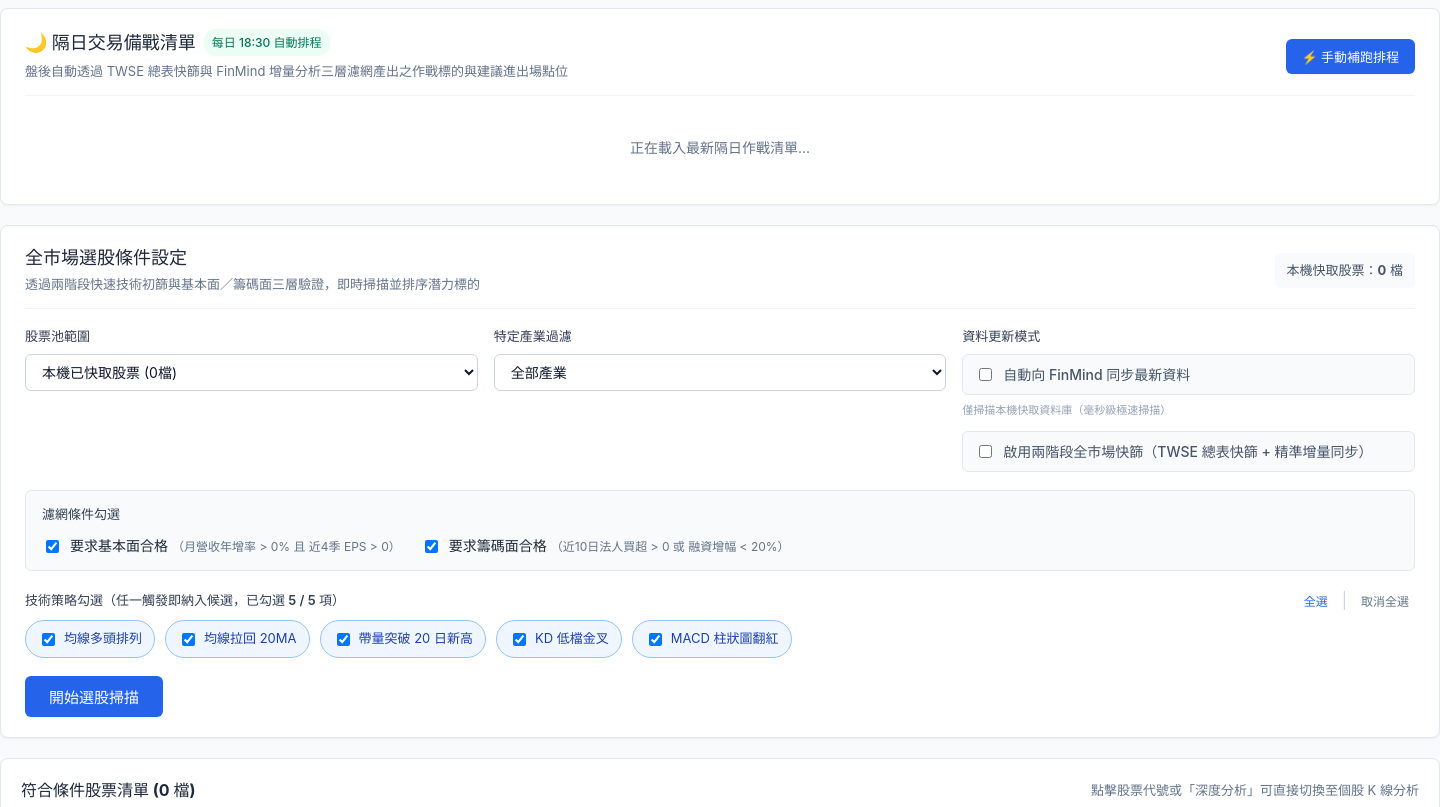
Test: MarketScanner Component › allows changing filters and strategy selection
The width and height of the screenshot is (1440, 807).
Check: the checkbox with test id "strategy-checkbox-均線多頭排列" is shown, box [42, 632, 55, 646]
// Change pool
Step 1. Select "熱門權值／台灣 50 代表股" in the dropdown with test id "pool-select" → [251, 373], box [25, 354, 478, 391]
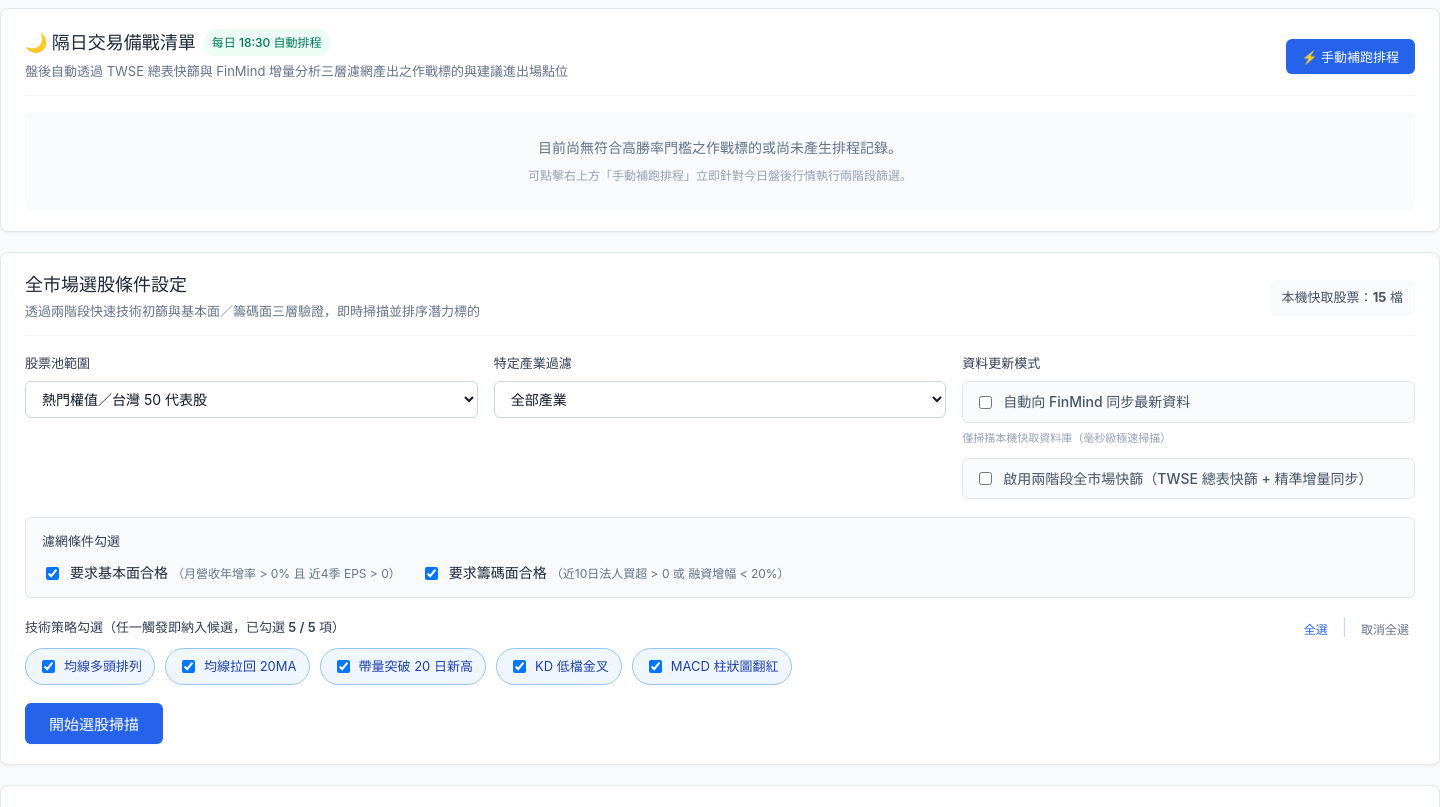
// Change industry
Step 2. Select "科技股（電子八大類）" in the dropdown with test id "industry-select" → [720, 400], box [494, 381, 946, 418]
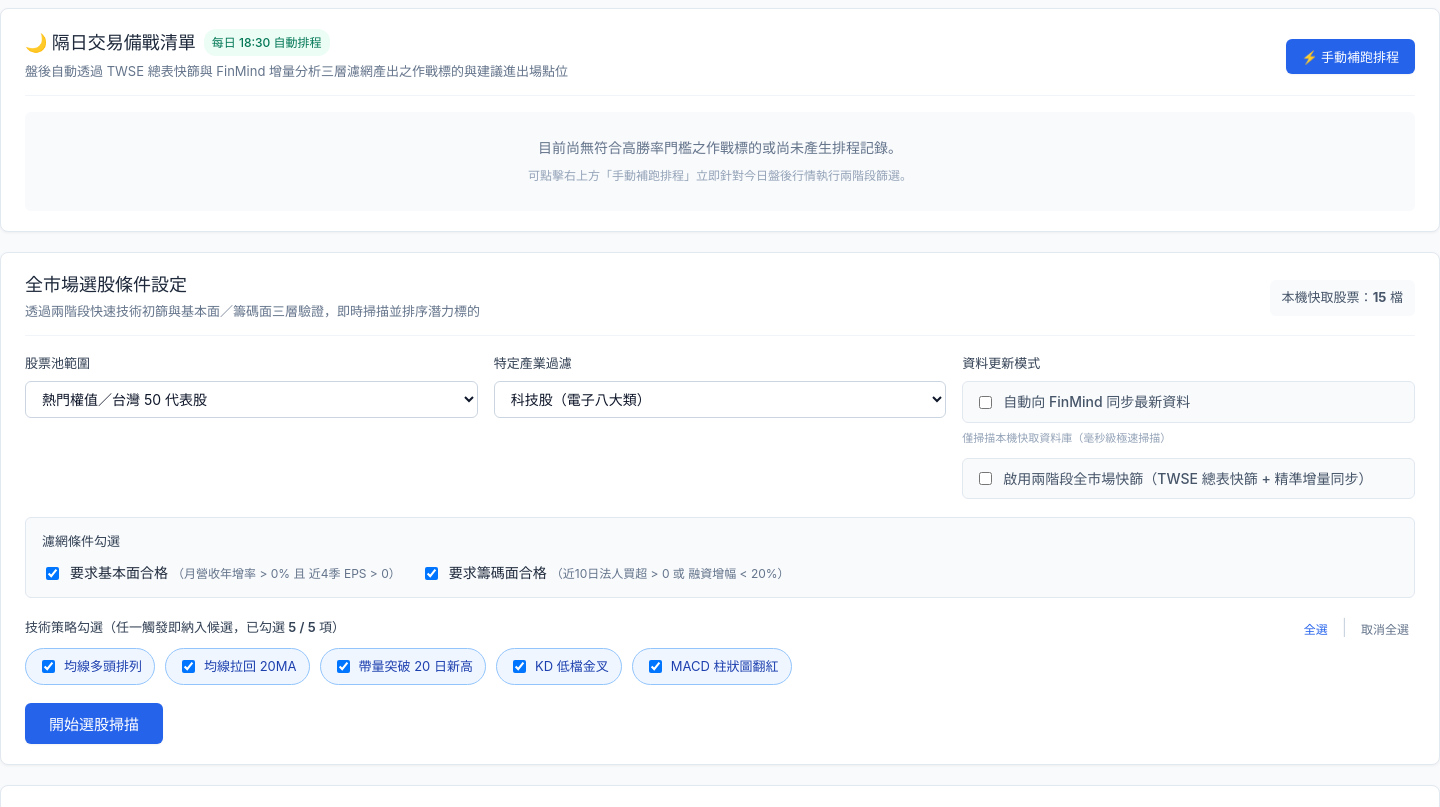
// Toggle sync checkbox
Step 3. Click the checkbox with test id "sync-latest-checkbox" → [986, 402], box [979, 396, 992, 408]
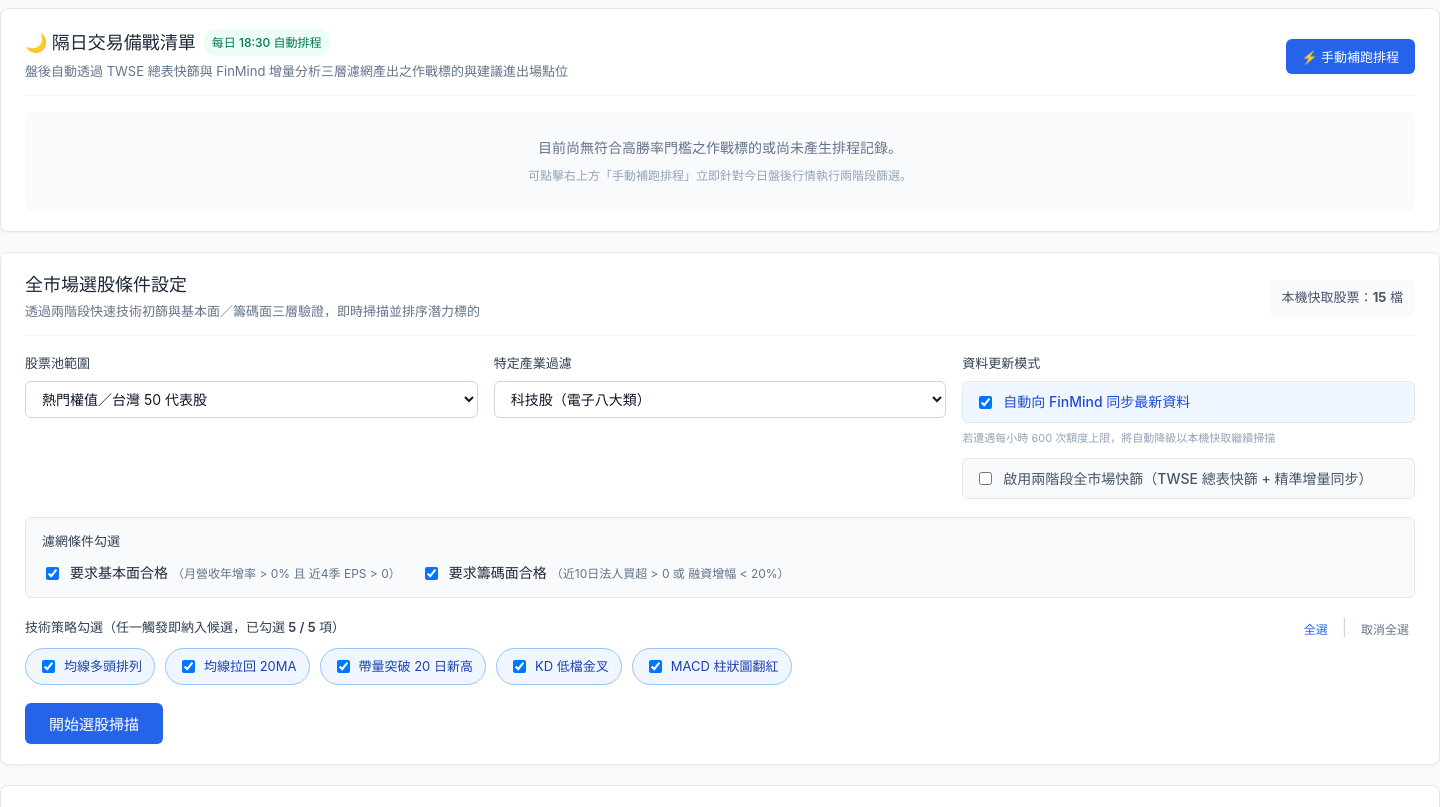
Check: the checkbox with test id "sync-latest-checkbox" is checked, box [979, 396, 992, 408]
// Uncheck and check strategies
Step 4. Click the checkbox with test id "strategy-checkbox-均線多頭排列" → [48, 666], box [42, 660, 55, 673]
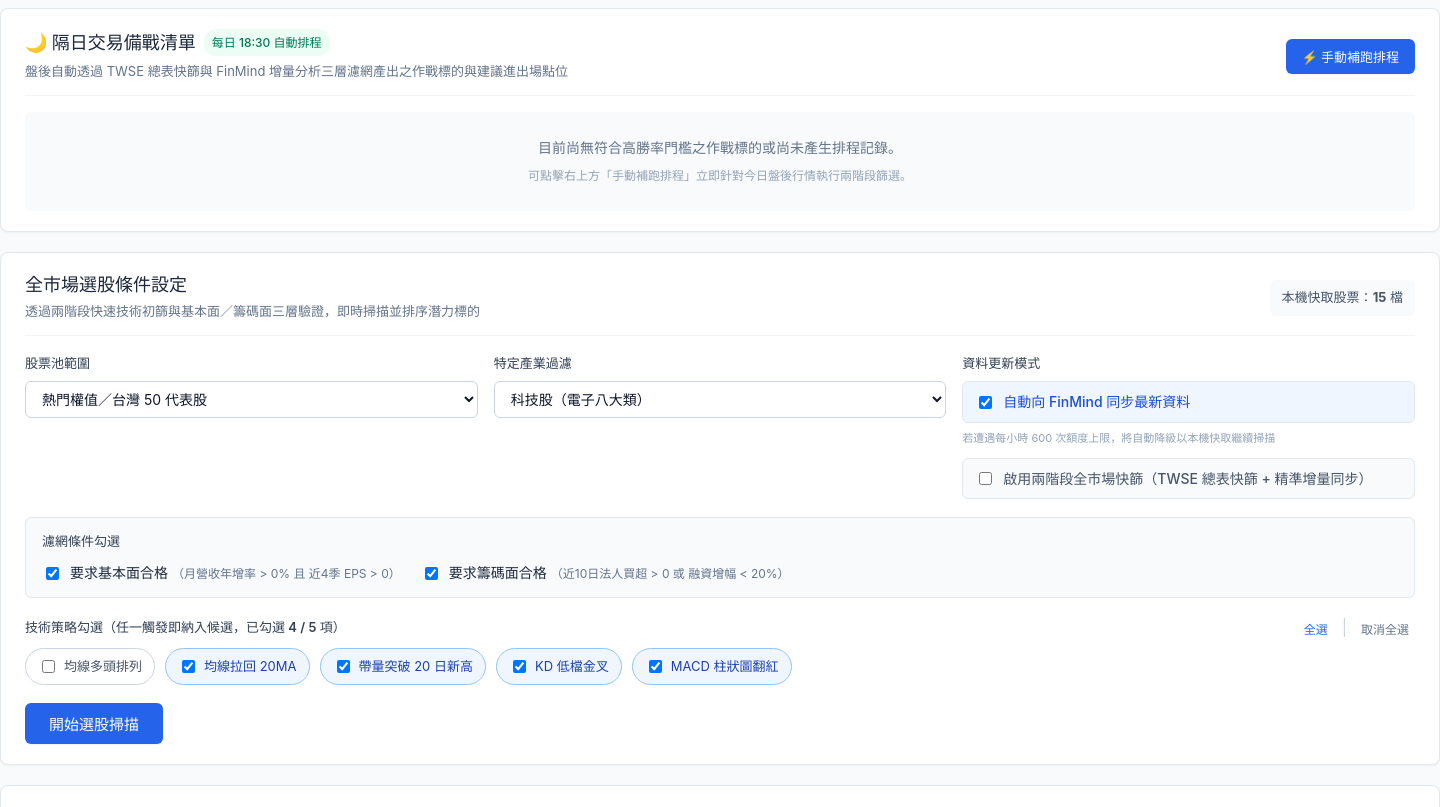
Check: the checkbox with test id "strategy-checkbox-均線多頭排列" is not checked, box [42, 660, 55, 673]
// Deselect all
Step 5. Click the button "取消全選" → [1385, 628], box [1355, 616, 1415, 640]
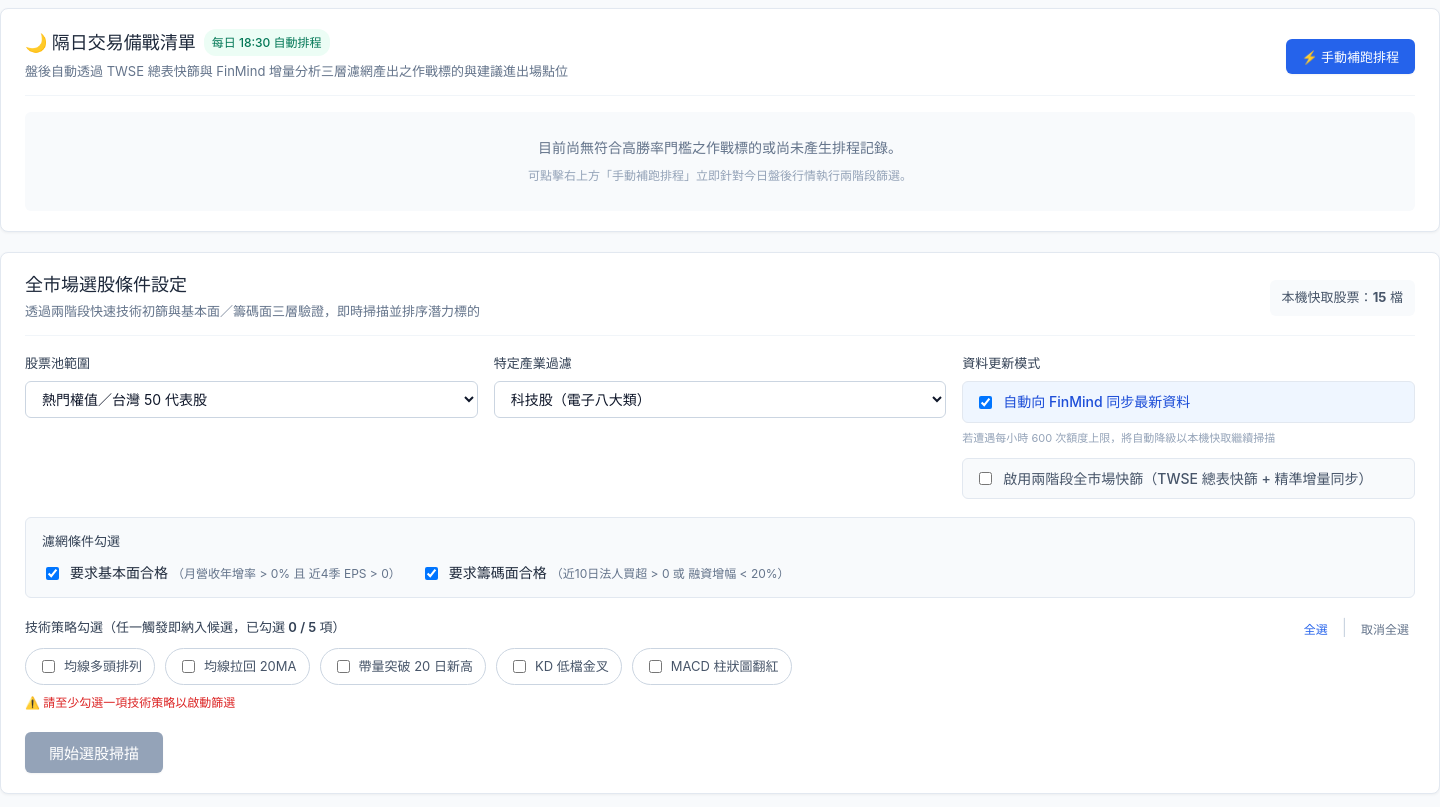
Check: the text "⚠️ 請至少勾選一項技術策略以啟動篩選" is shown, box [25, 695, 235, 710]
Check: the button with test id "start-scan-btn" is disabled, box [25, 732, 163, 773]
// Select all
Step 6. Click the button "全選" → [1316, 628], box [1298, 616, 1334, 640]
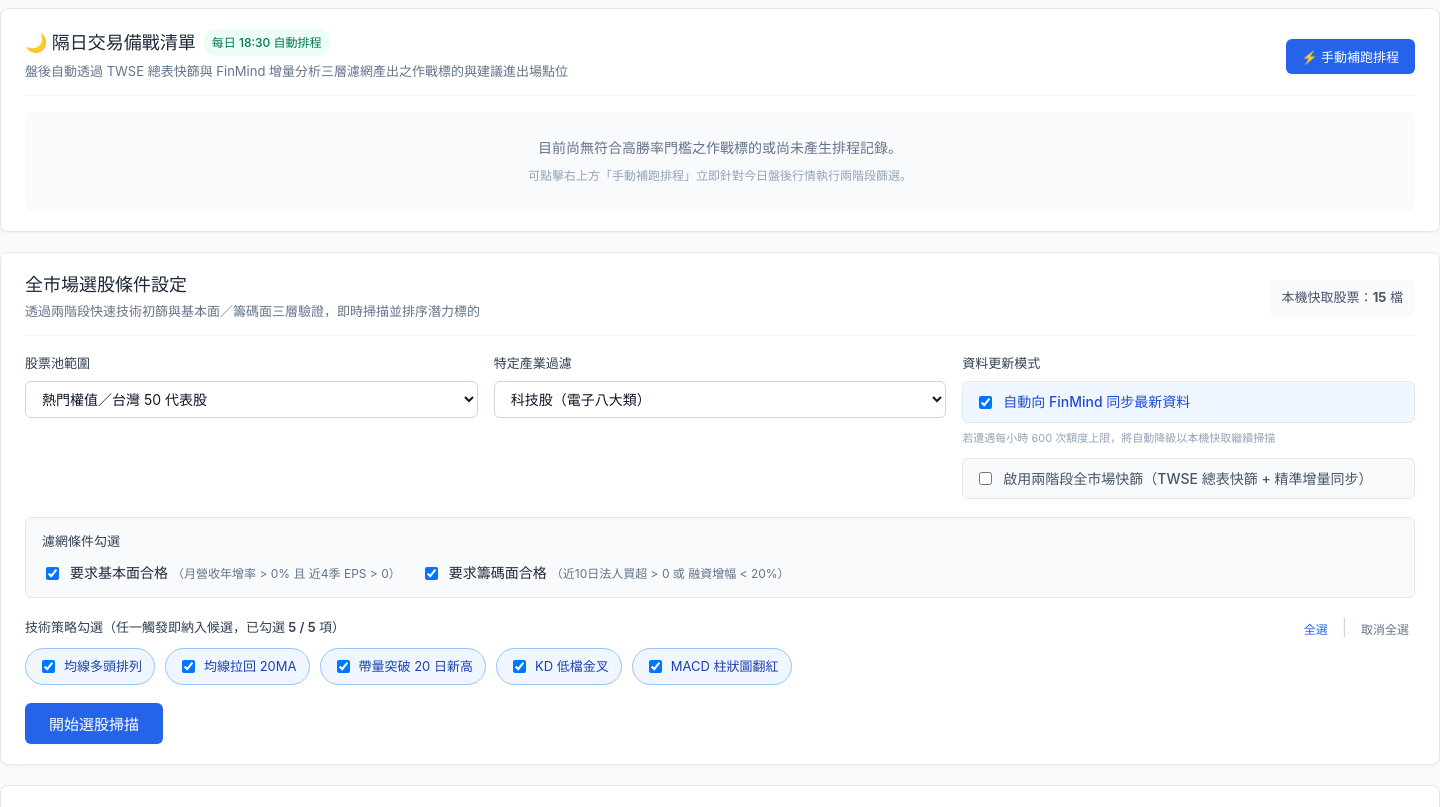
Check: the button with test id "start-scan-btn" is enabled, box [25, 703, 163, 744]
